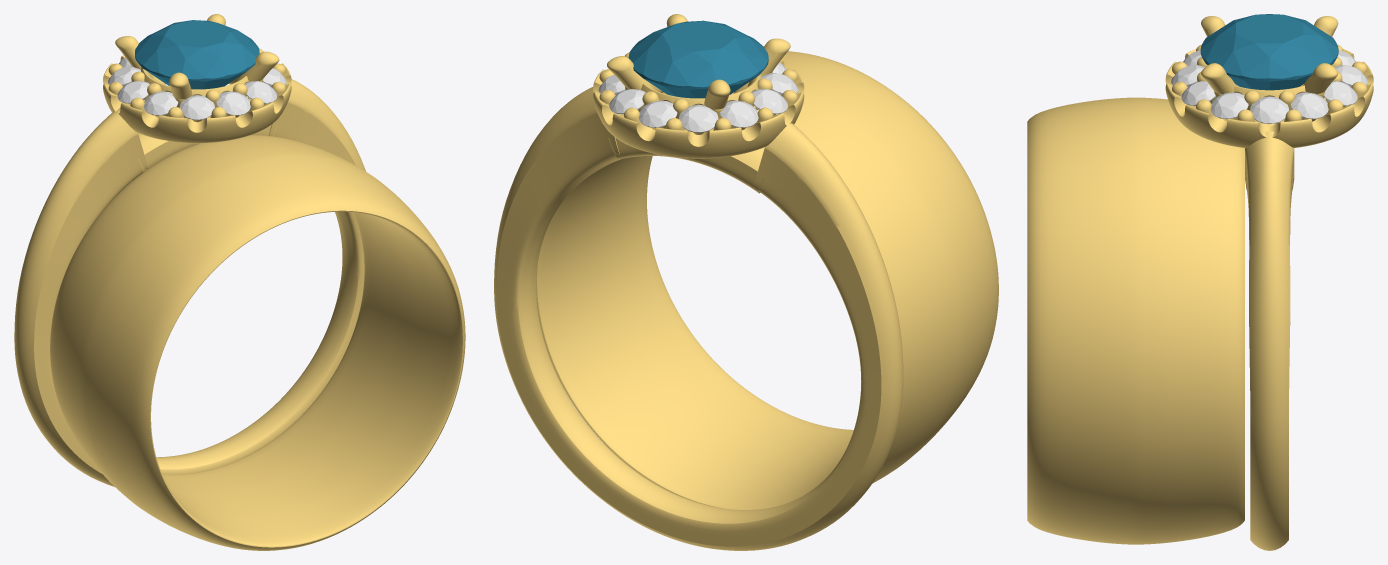
File: MeghanBOTHyg_blender.glb
3 views of the same model, side by side, from view 1: azimuth 30°, elevation 25°; view 2: azimuth 150°, elevation 25°; view 3: azimuth 270°, elevation 25° (orthographic). The views are drawn at different scales.
Parts seen in each view (by area): view 1: Meg YG BOTH for 3d model, Meg sapph BOTH for 3d model, Meg dia BOTH for 3d model.004, Meg dia BOTH for 3d model.005, Meg dia BOTH for 3d model.003; view 2: Meg YG BOTH for 3d model, Meg sapph BOTH for 3d model, Meg dia BOTH for 3d model, Meg dia BOTH for 3d model.011, Meg dia BOTH for 3d model.001, Meg dia BOTH for 3d model.010, Meg dia BOTH for 3d model.002; view 3: Meg YG BOTH for 3d model, Meg sapph BOTH for 3d model, Meg dia BOTH for 3d model.008, Meg dia BOTH for 3d model.007, Meg dia BOTH for 3d model.009, Meg dia BOTH for 3d model.006, Meg dia BOTH for 3d model.010, Meg dia BOTH for 3d model.011, Meg dia BOTH for 3d model.005.
Boxes of the visible parts, <box> form: Meg YG BOTH for 3d model: <box>14,14,465,550</box>; Meg sapph BOTH for 3d model: <box>135,20,259,89</box>; Meg dia BOTH for 3d model.004: <box>179,95,214,120</box>; Meg dia BOTH for 3d model.005: <box>216,91,250,115</box>; Meg dia BOTH for 3d model.003: <box>144,91,178,115</box>; Meg YG BOTH for 3d model: <box>494,14,998,550</box>; Meg sapph BOTH for 3d model: <box>628,20,768,98</box>; Meg dia BOTH for 3d model: <box>679,104,718,132</box>; Meg dia BOTH for 3d model.011: <box>639,100,677,127</box>; Meg dia BOTH for 3d model.001: <box>720,100,758,127</box>; Meg dia BOTH for 3d model.010: <box>609,89,645,114</box>; Meg dia BOTH for 3d model.002: <box>752,89,787,114</box>; Meg YG BOTH for 3d model: <box>1027,16,1373,550</box>; Meg sapph BOTH for 3d model: <box>1200,14,1338,90</box>; Meg dia BOTH for 3d model.008: <box>1250,96,1288,123</box>; Meg dia BOTH for 3d model.007: <box>1210,92,1248,119</box>; Meg dia BOTH for 3d model.009: <box>1290,92,1328,119</box>; Meg dia BOTH for 3d model.006: <box>1181,81,1215,105</box>; Meg dia BOTH for 3d model.010: <box>1323,81,1357,105</box>; Meg dia BOTH for 3d model.011: <box>1334,65,1368,86</box>; Meg dia BOTH for 3d model.005: <box>1171,65,1204,86</box>.
Size of the model in its own units: 21.34 by 25.63 by 16.07.
